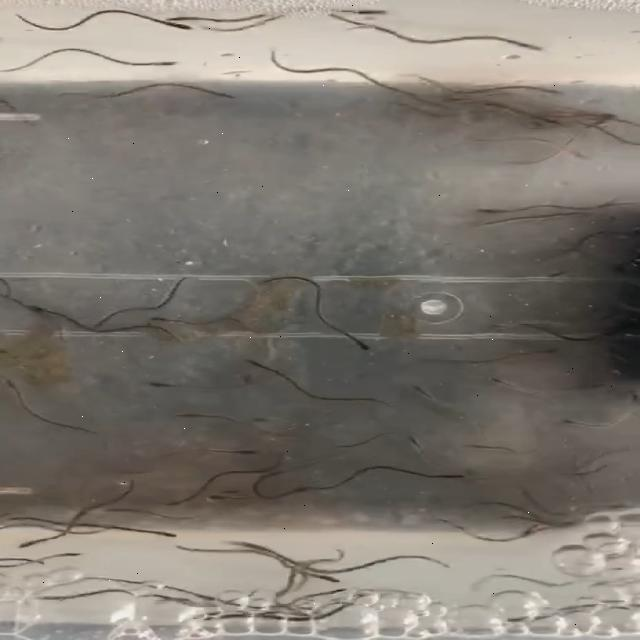active_glass_eel: (141, 378, 196, 397), (492, 608, 550, 626), (220, 534, 270, 554), (302, 582, 354, 600), (89, 308, 127, 332), (182, 608, 232, 624), (52, 545, 93, 564), (304, 568, 352, 584), (195, 85, 237, 103), (226, 368, 262, 389), (430, 512, 472, 530), (230, 409, 274, 426), (236, 354, 272, 374), (404, 384, 440, 404), (400, 433, 436, 453), (445, 467, 490, 482), (172, 406, 214, 422), (134, 524, 180, 538), (140, 56, 185, 70), (30, 301, 58, 323), (562, 144, 596, 162), (484, 374, 518, 392), (9, 535, 45, 552), (425, 92, 463, 108), (510, 36, 550, 51), (530, 114, 566, 130), (347, 6, 398, 17), (206, 489, 243, 504), (220, 445, 266, 457), (344, 334, 374, 352), (158, 18, 196, 32), (30, 589, 66, 603), (557, 414, 589, 428), (542, 266, 574, 280), (592, 111, 618, 128), (147, 309, 181, 322), (1, 378, 20, 397), (472, 204, 508, 214)
